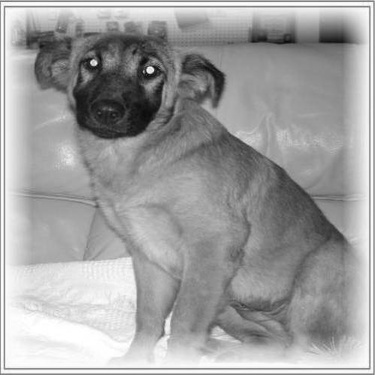dog: (8, 16, 359, 365)
